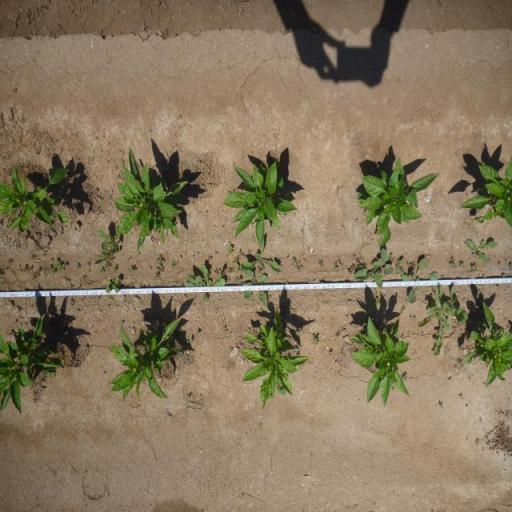plant: (357, 158, 442, 248), (116, 148, 190, 240), (221, 157, 300, 241), (108, 316, 178, 402), (0, 314, 58, 414), (0, 162, 72, 236), (349, 316, 406, 402), (241, 310, 295, 400), (457, 153, 512, 230), (464, 301, 512, 389)
weed: (418, 271, 468, 358), (185, 266, 225, 304), (356, 248, 390, 290), (241, 240, 282, 270), (243, 270, 270, 307), (92, 230, 120, 264), (463, 238, 500, 263), (408, 256, 426, 304), (44, 259, 66, 275), (396, 256, 409, 281), (153, 254, 165, 280), (350, 253, 367, 271), (105, 277, 120, 295), (234, 248, 244, 274), (291, 256, 304, 273), (106, 254, 116, 268), (176, 344, 186, 358), (333, 258, 342, 273), (447, 256, 458, 268), (31, 268, 41, 280), (234, 276, 244, 286), (276, 386, 286, 396), (294, 327, 304, 336), (406, 260, 416, 268), (22, 265, 32, 273), (312, 335, 320, 345), (186, 336, 194, 346), (226, 246, 233, 256), (213, 268, 221, 276), (128, 266, 136, 274), (98, 266, 106, 274), (374, 298, 380, 308), (227, 266, 234, 274), (171, 260, 178, 268), (458, 359, 464, 368), (0, 268, 6, 277), (472, 264, 478, 272), (112, 265, 118, 273), (400, 304, 406, 312), (0, 279, 6, 286), (70, 359, 76, 366), (335, 329, 340, 337), (340, 346, 344, 356), (294, 348, 299, 356), (318, 260, 324, 266), (86, 261, 92, 267), (402, 374, 408, 380), (185, 396, 191, 402), (83, 346, 89, 352), (7, 257, 12, 264), (196, 330, 200, 338), (459, 262, 464, 268), (208, 255, 213, 261), (82, 275, 87, 281), (341, 334, 346, 340), (502, 273, 507, 278), (76, 264, 80, 270), (498, 260, 502, 265), (390, 252, 392, 260), (286, 254, 290, 258), (38, 245, 40, 252), (215, 250, 218, 254), (193, 254, 196, 258), (356, 216, 358, 222), (414, 316, 416, 321), (196, 252, 199, 255), (330, 352, 332, 356), (180, 255, 182, 258), (185, 250, 186, 254), (411, 316, 412, 320)
